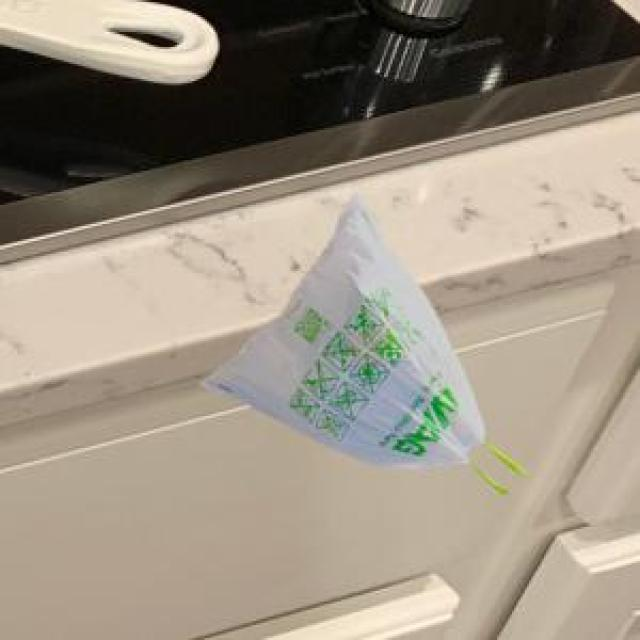plastic: (202, 194, 516, 500)
